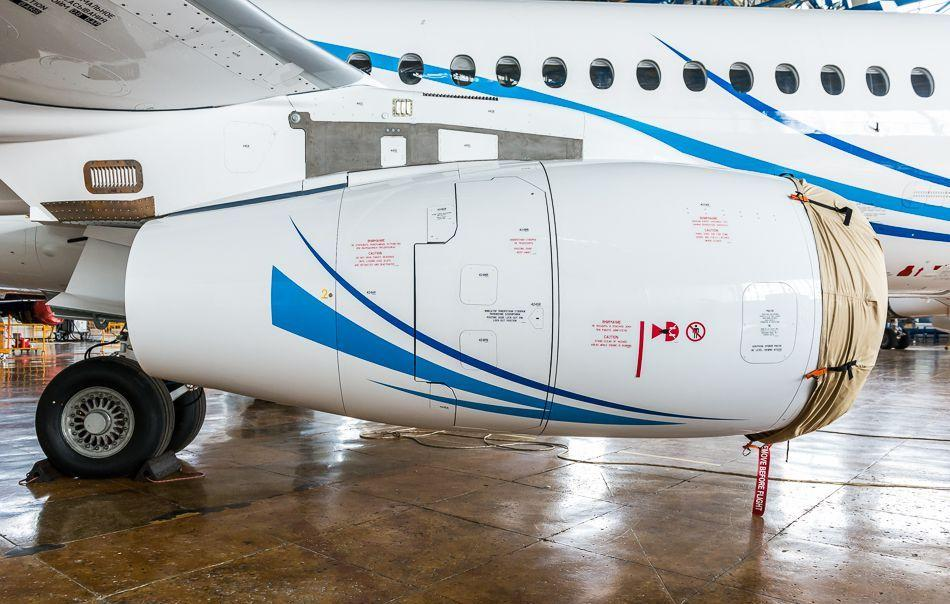airplane: (2, 14, 948, 476)
